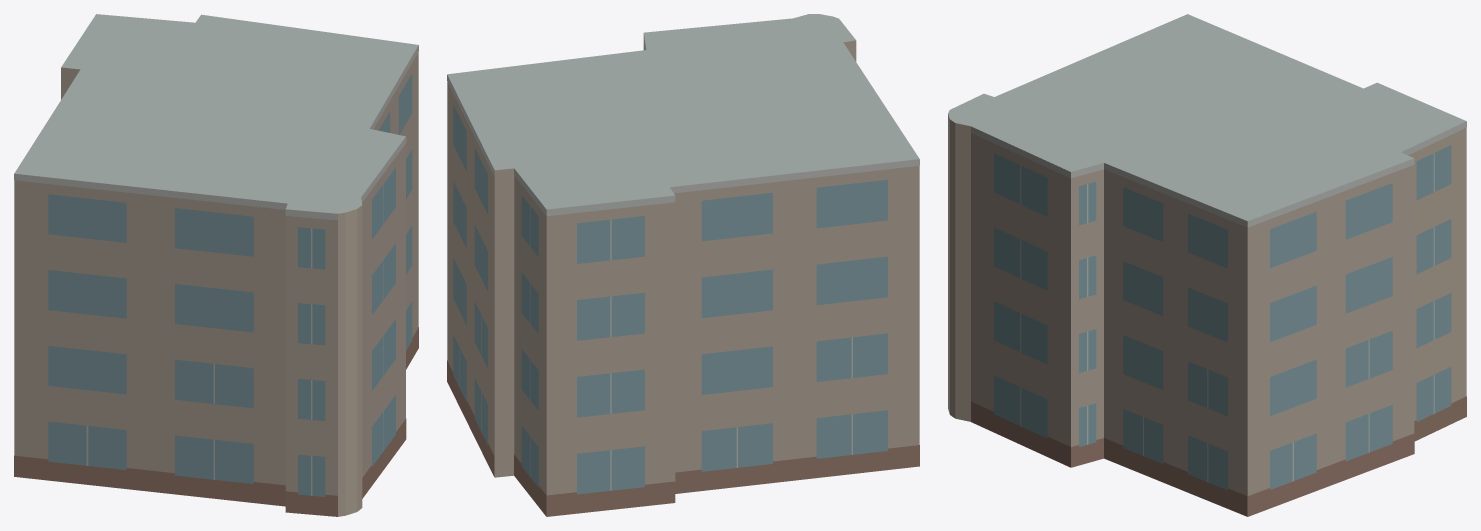
Rendered from survey-upis-33043534.glb.
The picture shows the model from 3 angles, left to right: view 1: azimuth 30°, elevation 25°; view 2: azimuth 150°, elevation 25°; view 3: azimuth 270°, elevation 25°; orthographic projection. The views are drawn at different scales.
Visible parts, largest first — view 1: survey-upis-33043534.tmp; view 2: survey-upis-33043534.tmp; view 3: survey-upis-33043534.tmp.
Part boxes in pixels (x1,y1,x2,y2): survey-upis-33043534.tmp: (14, 14, 418, 516); survey-upis-33043534.tmp: (447, 14, 919, 516); survey-upis-33043534.tmp: (948, 14, 1466, 516).
Bounding box in the file's own units: 17 × 11.3 × 17.97.
